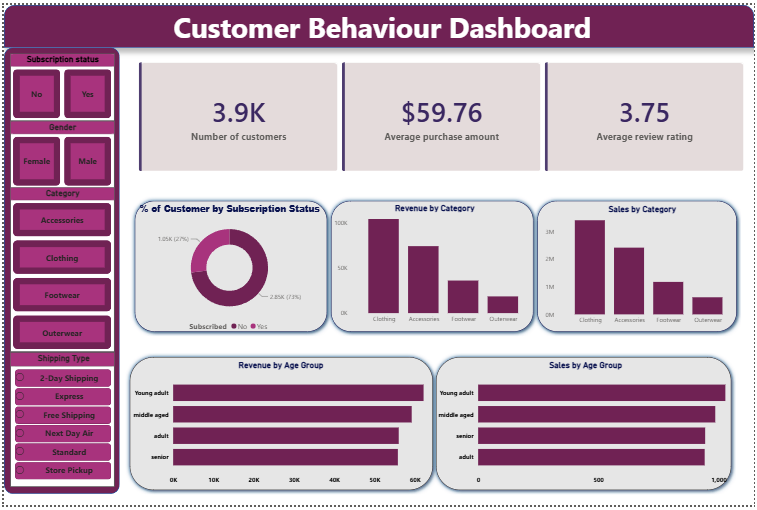

Layout of this report page (visuals, bound fields, positions):
{"tool":"powerbi","page":{"name":"Page 1","canvas":[1500,1000],"ordinal":0},"visuals":[{"type":"cardVisual","fields":{"Data":["public costomer.Number of customers","public costomer.Average purchase amount","public costomer.Average review rating"]},"box":[252.9,97.1,1244.3,252.9],"z":0},{"type":"shape","box":[0,0,1500,85.7],"z":1000},{"type":"textbox","box":[11.4,0,1488.6,85.7],"z":2000},{"type":"shape","box":[252.9,382.9,402.9,280],"z":3000},{"type":"donutChart","title":"% of Customer by Subscription Status","fields":{"Category":["public costomer.subscription_status"],"Y":["CountNonNull(public costomer.customer_id)"]},"box":[257.1,395.7,387.1,267.1],"z":4000},{"type":"shape","box":[1058.6,382.9,417.1,280],"z":5000},{"type":"shape","box":[645.7,382.9,422.9,280],"z":6000},{"type":"clusteredColumnChart","title":"Revenue by Category","fields":{"Y":["Sum(public costomer.purchase_amount)"],"Category":["public costomer.category"]},"box":[655.7,395.7,412.9,251.4],"z":7000},{"type":"clusteredColumnChart","title":"Sales by Category","fields":{"Category":["public costomer.category"],"Y":["Sum(public costomer.customer_id)"]},"box":[1077.1,397.1,398.6,251.4],"z":8000},{"type":"shape","box":[0,85.7,231.4,892.9],"z":9000},{"type":"advancedSlicerVisual","title":"Subscription status","fields":{"Values":["public costomer.subscription_status"]},"box":[11.4,97.1,208.6,134.3],"z":10000},{"type":"advancedSlicerVisual","title":"Gender","fields":{"Values":["public costomer.gender"]},"box":[11.4,231.4,208.6,134.3],"z":11000},{"type":"advancedSlicerVisual","title":"Category","fields":{"Values":["public costomer.category"]},"box":[11.4,365.7,208.6,328.6],"z":12000},{"type":"listSlicer","title":"Shipping Type","fields":{"Values":["public costomer.shipping_type"]},"box":[11.4,694.3,208.6,268.6],"z":13000},{"type":"shape","box":[241.4,694.3,624.3,284.3],"z":14000},{"type":"clusteredBarChart","title":"Revenue by Age Group","fields":{"Category":["public costomer.age_group"],"Y":["Sum(public costomer.purchase_amount)"]},"box":[252.9,710,602.9,258.6],"z":15000},{"type":"shape","box":[855.7,694.3,608.6,284.3],"z":16000},{"type":"clusteredBarChart","title":"Sales by Age Group","fields":{"Category":["public costomer.age_group"],"Y":["CountNonNull(public costomer.customer_id)"]},"box":[862.9,710,601.4,258.6],"z":17000}]}

Visuals, with their boxes in screenshot pixels (x1, y1, x2, y2), scaled from the page's 1500x1000 canvas onto the 757x510 screenshot:
cardVisual - public costomer.Number of customers x public costomer.Average purchase amount: bbox=(128, 50, 756, 178)
shape: bbox=(0, 0, 756, 44)
textbox: bbox=(6, 0, 756, 44)
shape: bbox=(128, 195, 331, 338)
"% of Customer by Subscription Status" donutChart: bbox=(130, 202, 325, 338)
shape: bbox=(534, 195, 745, 338)
shape: bbox=(326, 195, 539, 338)
"Revenue by Category" clusteredColumnChart: bbox=(331, 202, 539, 330)
"Sales by Category" clusteredColumnChart: bbox=(544, 203, 745, 331)
shape: bbox=(0, 44, 117, 499)
"Subscription status" advancedSlicerVisual: bbox=(6, 50, 111, 118)
"Gender" advancedSlicerVisual: bbox=(6, 118, 111, 187)
"Category" advancedSlicerVisual: bbox=(6, 187, 111, 354)
"Shipping Type" listSlicer: bbox=(6, 354, 111, 491)
shape: bbox=(122, 354, 437, 499)
"Revenue by Age Group" clusteredBarChart: bbox=(128, 362, 432, 494)
shape: bbox=(432, 354, 739, 499)
"Sales by Age Group" clusteredBarChart: bbox=(435, 362, 739, 494)
